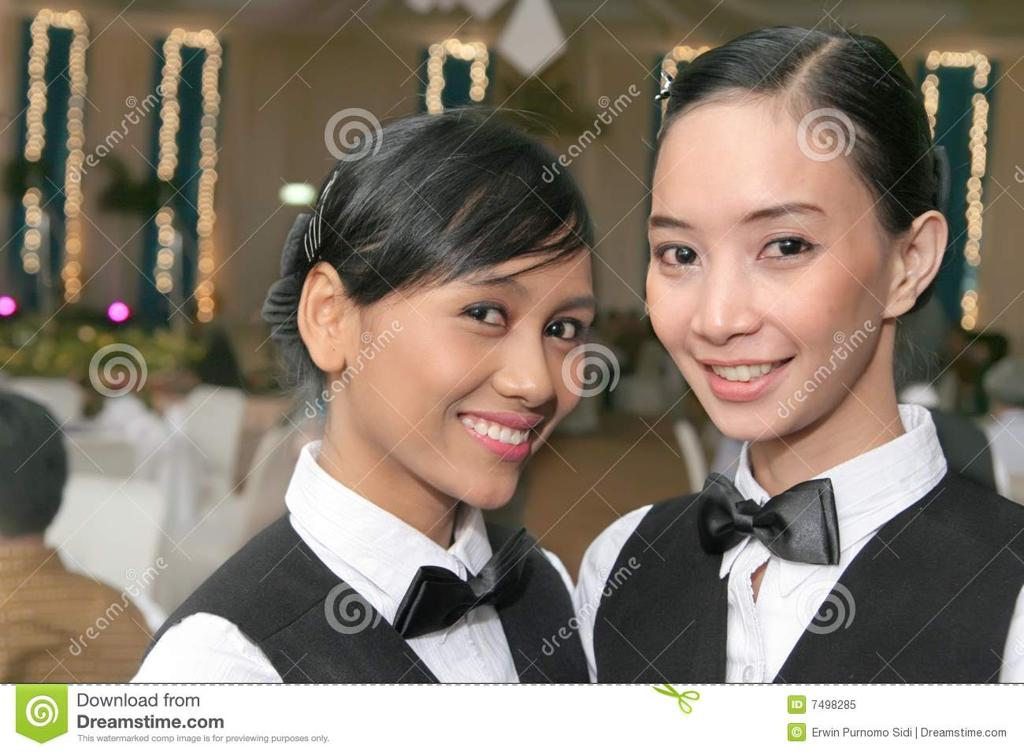face: (642, 100, 888, 442), (358, 184, 604, 504)
